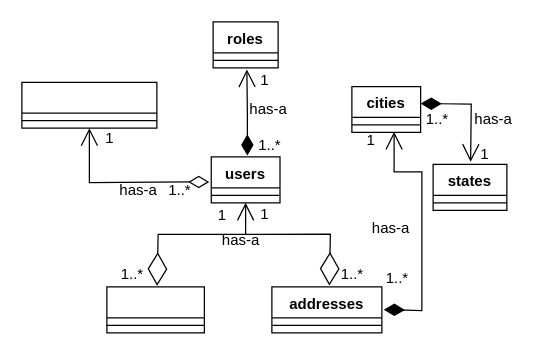
The diagram is 546 pixels wide and 355 high, and some of its shapes have lost their labels. The shapes that lost their labels are listed below. From the top down, each one's centre as x and y in pixels, then its label:
(x=89, y=104): users_status
(x=155, y=309): contacts
